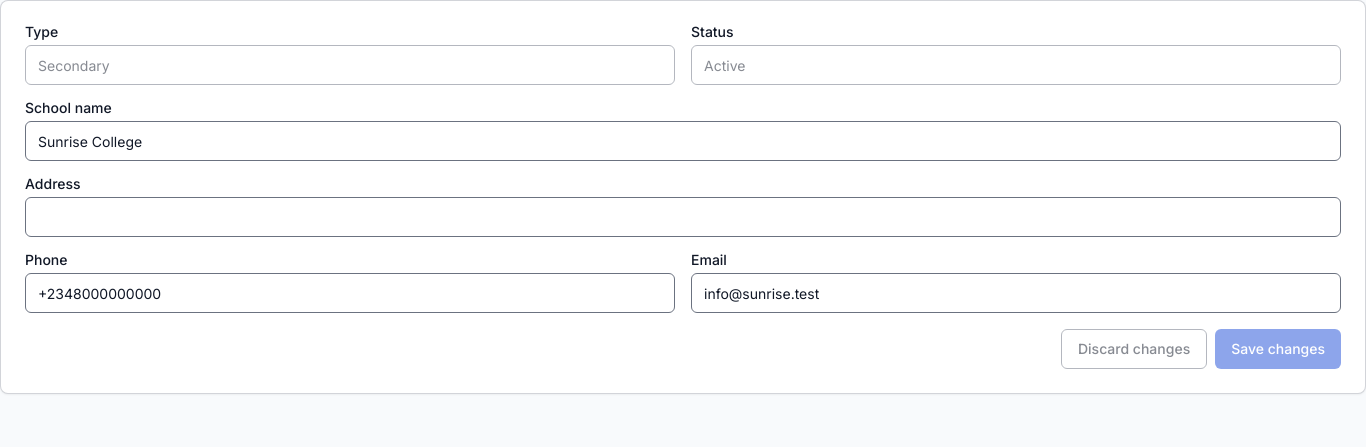
Test: SchoolProfilePage › shows a readable error when the save fails
The image size is (1366, 447).
Step 1. Type " Updated" into the field labelled "School name" → (683, 141), box x1=25 y1=121 x2=1341 y2=161
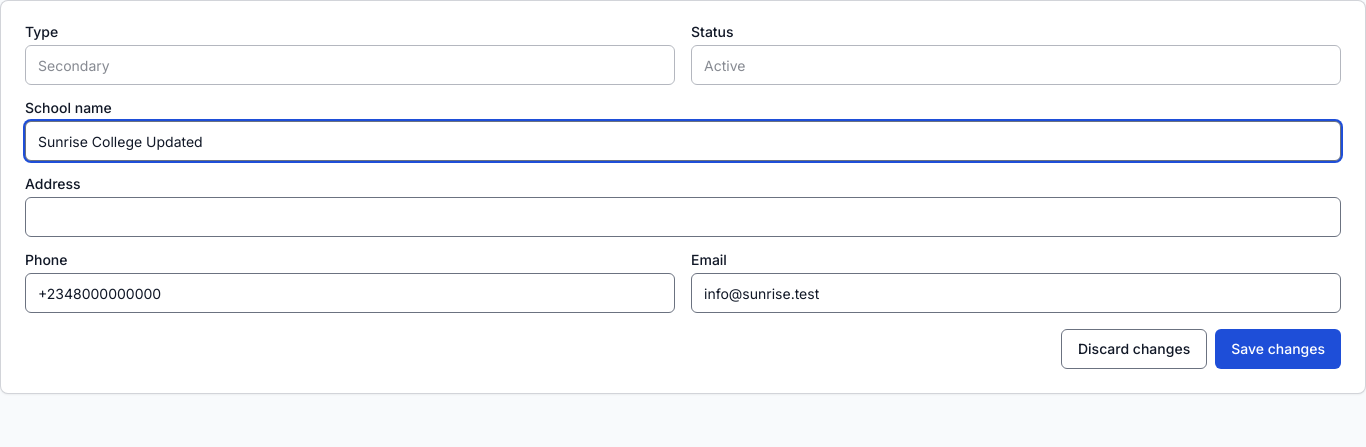
Step 2. Click the button "Save changes" → (1278, 349), box x1=1215 y1=329 x2=1341 y2=369
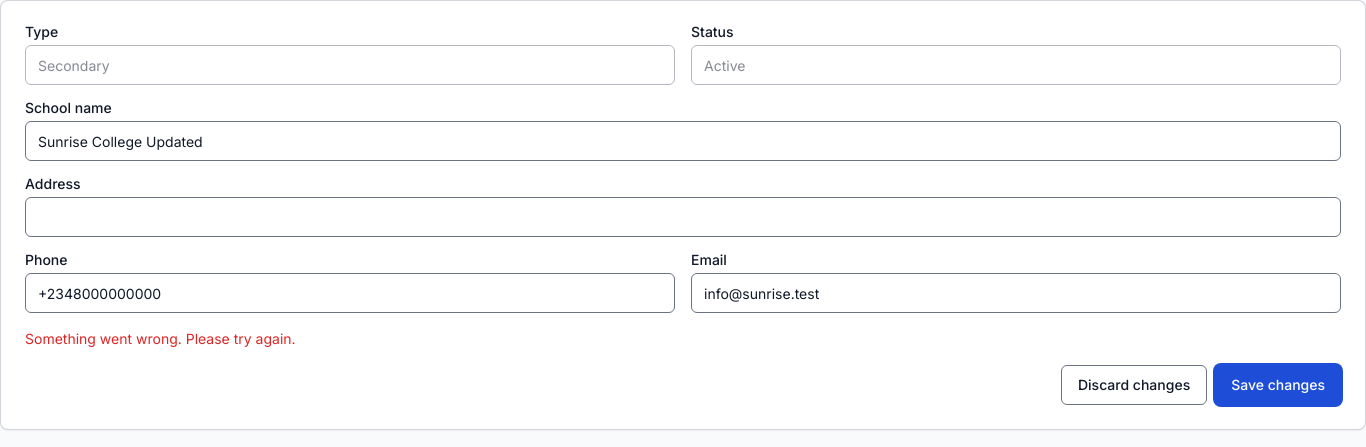
Check: the message "Something went wrong. Please try again." is shown, box x1=25 y1=330 x2=296 y2=347
